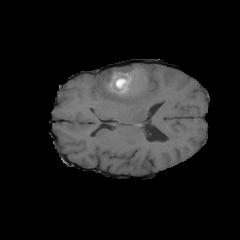glioma: (93, 64, 156, 119)
